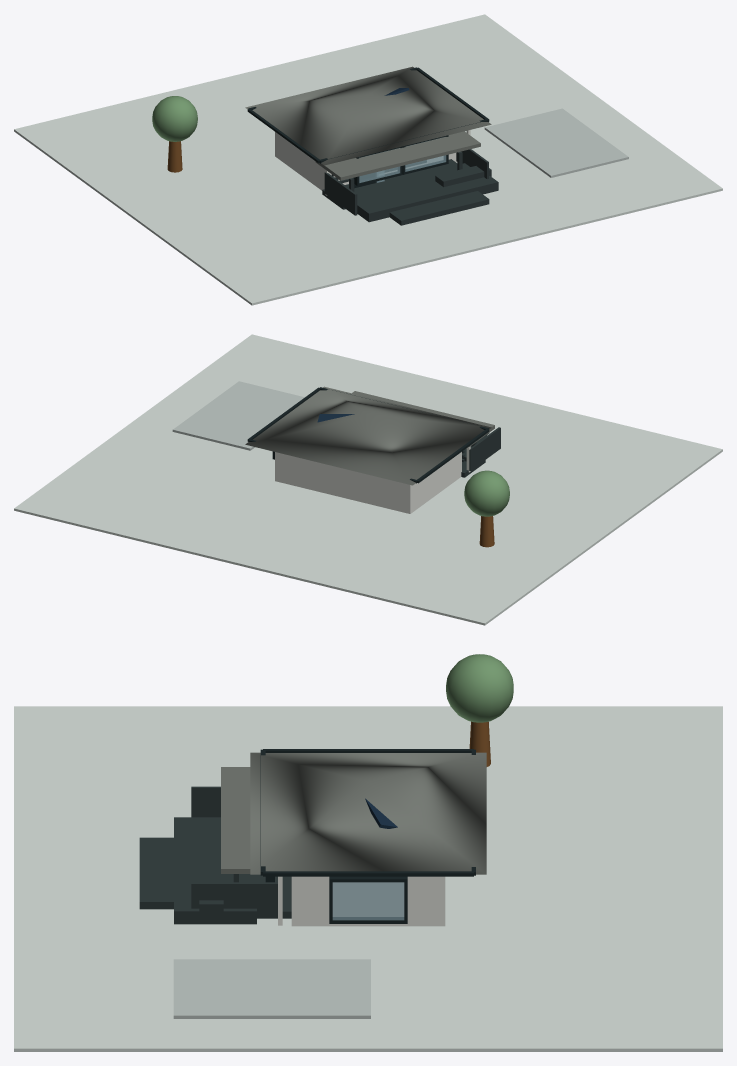
File: generated-shell-pnu-41450-002-yard-porch-hip-urban-atelier.meshopt.glb
3 renders of one model, top to bottom at view 1: azimuth 30°, elevation 25°; view 2: azimuth 150°, elevation 25°; view 3: azimuth 270°, elevation 25°, orthographic. The views are drawn at different scales.
Visible parts, largest first — view 1: IfcSite_ServicePreviewBase, IfcRoof_HipRoof, IfcSpace_ParkingPad, IfcSlab_shell-c1-PNU-41450-002-slab-block-front-deck-1ccdaf6, IfcCovering_DeepPorchCanopy, IfcGeographicElement_GardenTree, IfcSlab_DeckModule, IfcBuildingElementProxy_FloorMass_L1, IfcCovering_PorchRailLeft, IfcCovering_PorchBench, IfcSlab_FrontPorch; view 2: IfcSite_ServicePreviewBase, IfcRoof_HipRoof, IfcBuildingElementProxy_FloorMass_L1, IfcSpace_ParkingPad, IfcGeographicElement_GardenTree, IfcCovering_PorchRailLeft, IfcCovering_DeepPorchCanopy; view 3: IfcSite_ServicePreviewBase, IfcRoof_HipRoof, IfcSpace_ParkingPad, IfcBuildingElementProxy_FloorMass_L1, IfcSlab_shell-c1-PNU-41450-002-slab-block-front-deck-1ccdaf6, IfcGeographicElement_GardenTree, IfcCovering_DeepPorchCanopy, IfcWindow_Glass, IfcSlab_DeckModule, IfcCovering_PorchRailRight, IfcCovering_RoofGutterRight, IfcCovering_PorchRailLeft (+2 smaller).
Part boxes in pixels (left/top/right/bottom): IfcSite_ServicePreviewBase: left=14, top=14, right=722, bottom=305; IfcRoof_HipRoof: left=245, top=66, right=491, bottom=165; IfcSpace_ParkingPad: left=484, top=108, right=628, bottom=177; IfcSlab_shell-c1-PNU-41450-002-slab-block-front-deck-1ccdaf6: left=354, top=163, right=498, bottom=222; IfcCovering_DeepPorchCanopy: left=315, top=131, right=480, bottom=180; IfcGeographicElement_GardenTree: left=152, top=96, right=197, bottom=172; IfcSlab_DeckModule: left=389, top=191, right=489, bottom=225; IfcBuildingElementProxy_FloorMass_L1: left=275, top=132, right=456, bottom=190; IfcCovering_PorchRailLeft: left=324, top=172, right=357, bottom=215; IfcCovering_PorchBench: left=435, top=166, right=491, bottom=187; IfcSlab_FrontPorch: left=322, top=159, right=457, bottom=209; IfcSite_ServicePreviewBase: left=14, top=334, right=722, bottom=625; IfcRoof_HipRoof: left=245, top=386, right=491, bottom=485; IfcBuildingElementProxy_FloorMass_L1: left=275, top=452, right=461, bottom=513; IfcSpace_ParkingPad: left=172, top=381, right=304, bottom=450; IfcGeographicElement_GardenTree: left=464, top=470, right=509, bottom=547; IfcCovering_PorchRailLeft: left=469, top=427, right=500, bottom=470; IfcCovering_DeepPorchCanopy: left=352, top=391, right=494, bottom=446; IfcSite_ServicePreviewBase: left=14, top=706, right=722, bottom=1051; IfcRoof_HipRoof: left=250, top=752, right=486, bottom=874; IfcSpace_ParkingPad: left=173, top=959, right=370, bottom=1018; IfcBuildingElementProxy_FloorMass_L1: left=291, top=876, right=445, bottom=926; IfcSlab_shell-c1-PNU-41450-002-slab-block-front-deck-1ccdaf6: left=174, top=817, right=256, bottom=924; IfcGeographicElement_GardenTree: left=446, top=654, right=513, bottom=766; IfcCovering_DeepPorchCanopy: left=221, top=767, right=250, bottom=873; IfcWindow_Glass: left=332, top=882, right=404, bottom=920; IfcSlab_DeckModule: left=139, top=837, right=173, bottom=909; IfcCovering_PorchRailRight: left=191, top=882, right=277, bottom=914; IfcCovering_RoofGutterRight: left=263, top=871, right=473, bottom=876; IfcCovering_PorchRailLeft: left=191, top=786, right=220, bottom=817.
Bounding box in the file's own units: 32 × 4.96 × 28.
